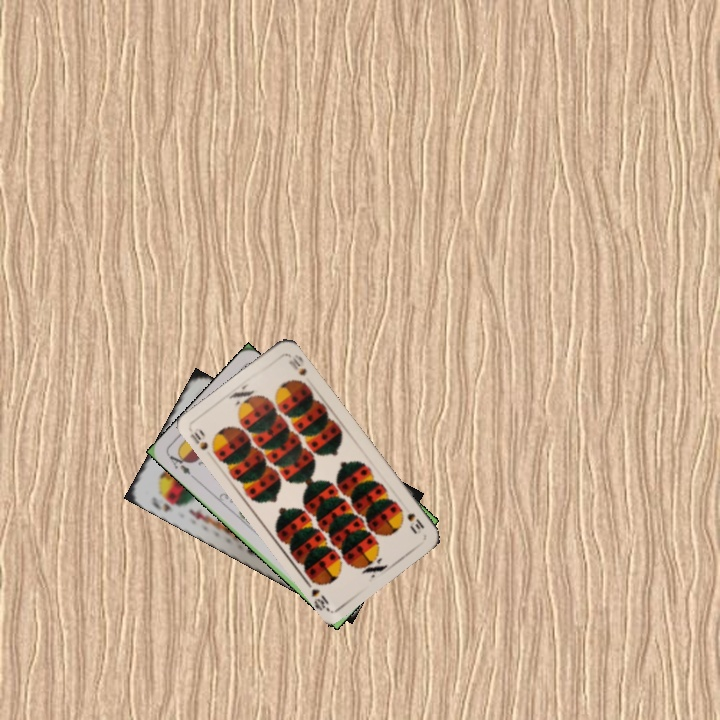EA: (165, 449, 193, 477)
S10: (186, 425, 218, 458), (403, 509, 427, 535)
SK: (148, 492, 174, 514)
